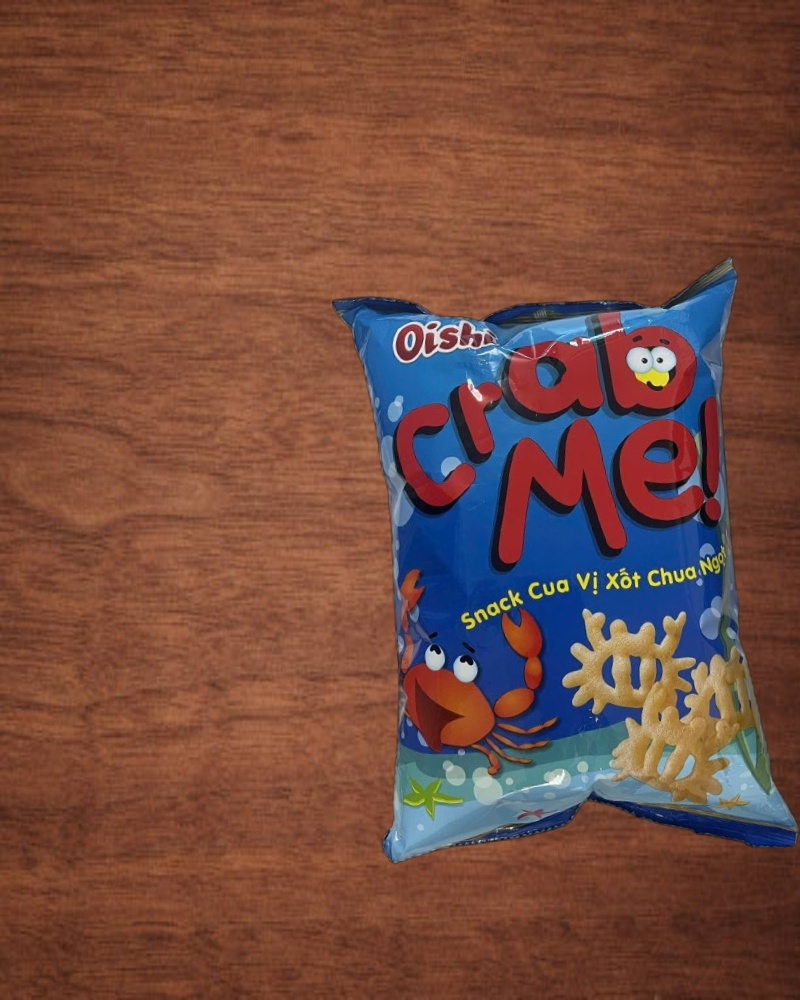Snack cua: (332, 256, 800, 877)
